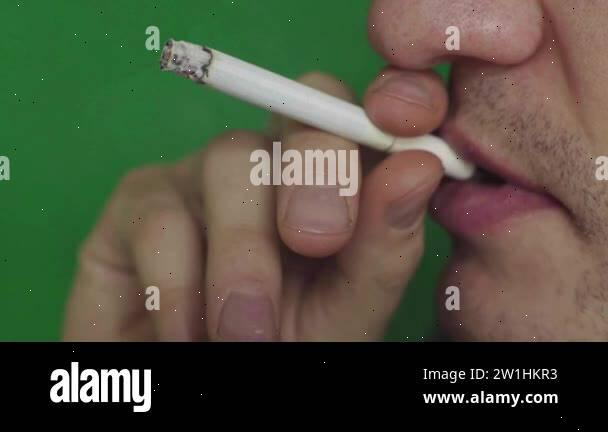cigarette: (161, 40, 474, 179)
